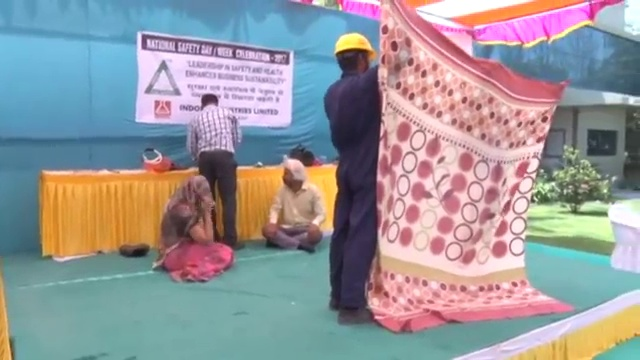helmet: (334, 30, 376, 60)
helmet_off: (183, 174, 212, 207), (280, 154, 303, 190), (199, 91, 218, 113)
helmet_on: (332, 29, 377, 74)
person: (323, 29, 381, 326), (189, 91, 247, 251), (156, 174, 234, 286), (262, 152, 330, 255)
